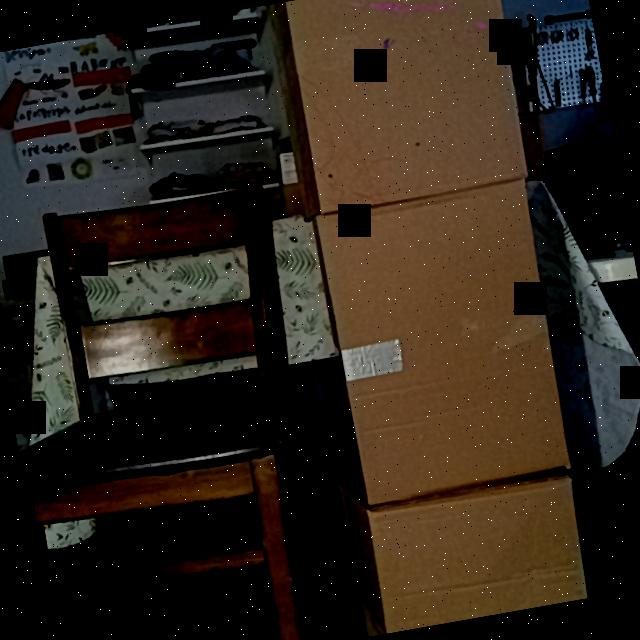box: (316, 178, 568, 506), (284, 0, 527, 212), (362, 472, 592, 634)
